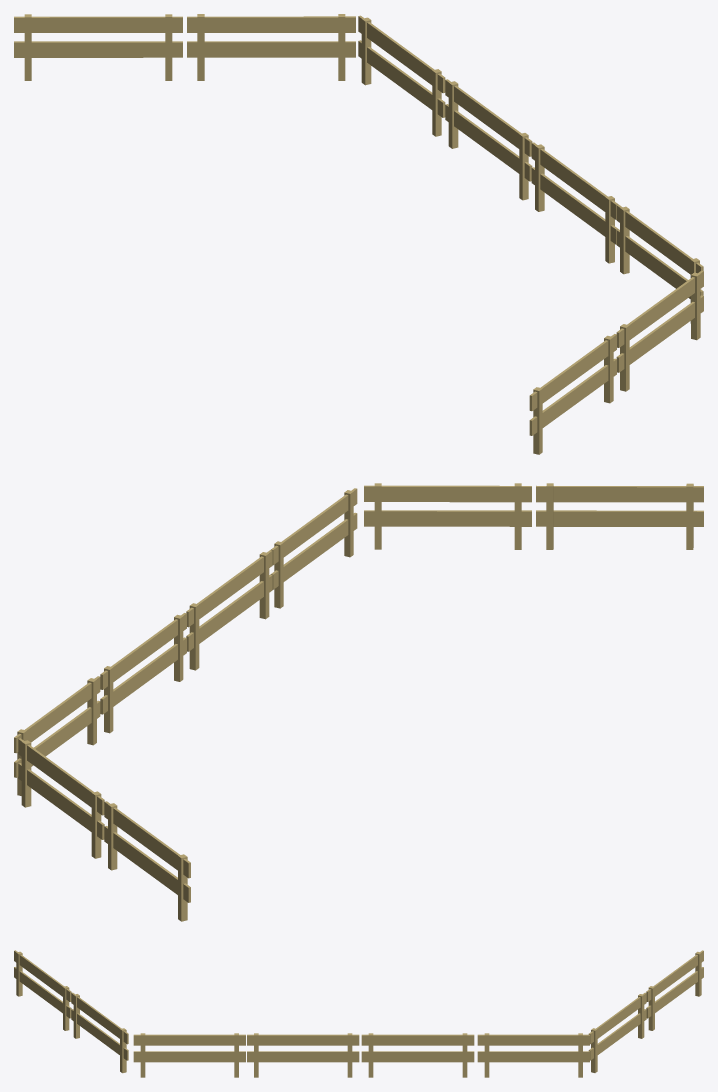
Rendered from StageSaku.obj.
The picture shows the model from 3 angles, top to bottom: view 1: azimuth 30°, elevation 25°; view 2: azimuth 150°, elevation 25°; view 3: azimuth 270°, elevation 25°; orthographic projection. The views are drawn at different scales.
Visible parts, largest first — view 1: Cube.001; view 2: Cube.001; view 3: Cube.001.
Part boxes in pixels (x1,y1,x2,y2): Cube.001: (14,14,703,454); Cube.001: (14,483,703,921); Cube.001: (14,950,703,1077).
Bounding box in the file's own units: 22.19 × 5.12 × 75.36.
Materials: 1 (1 with a texture image).
